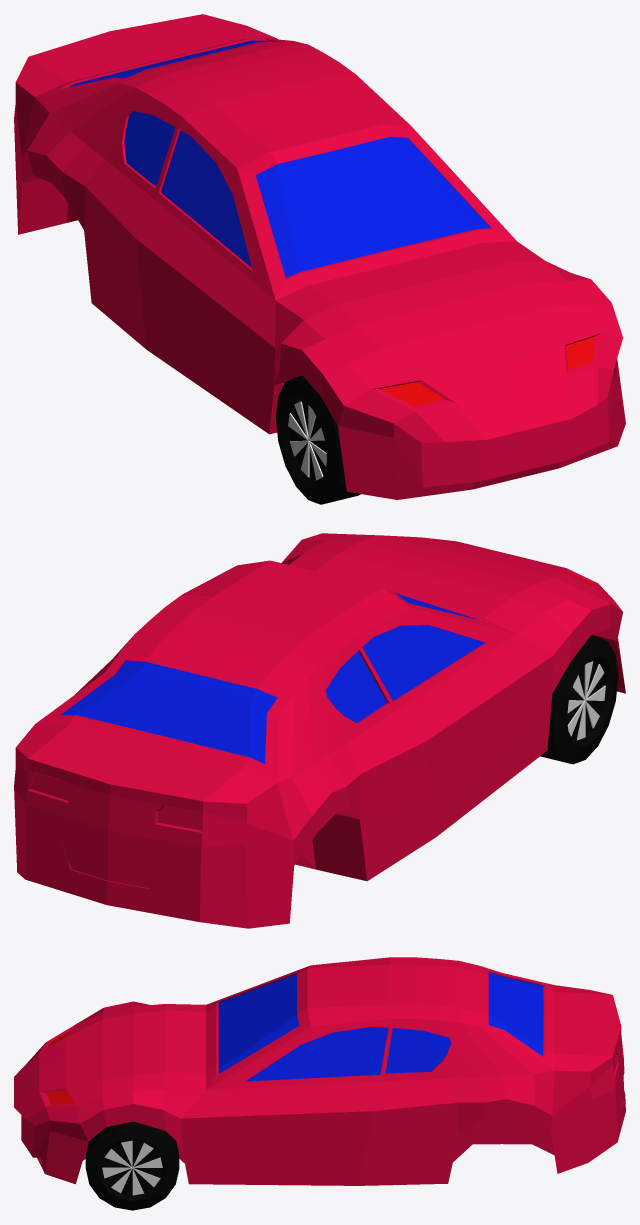
Rendered from mazda rx8.fbx.
3 views of the same model, one above another, from view 1: azimuth 30°, elevation 25°; view 2: azimuth 150°, elevation 25°; view 3: azimuth 270°, elevation 25° (orthographic). The views are drawn at different scales.
Parts seen in each view (by area): view 1: Body, Wheel_FR; view 2: Body, Wheel_FR; view 3: Body, Wheel_FL.
Boxes of the visible parts, x1,y1,x2,y2 form: Body: (14,14,625,499); Wheel_FR: (275,375,360,504); Body: (14,533,625,928); Wheel_FR: (540,635,618,764); Body: (14,957,625,1185); Wheel_FL: (85,1121,179,1210).
Bounding box in the file's own units: 133 × 108 × 336.
